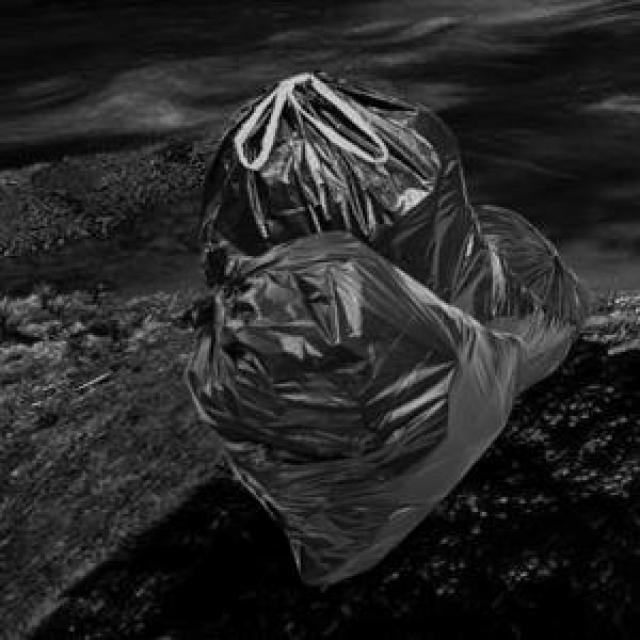miscellaneous trash: (162, 228, 525, 587), (194, 64, 574, 354), (467, 203, 587, 390)
